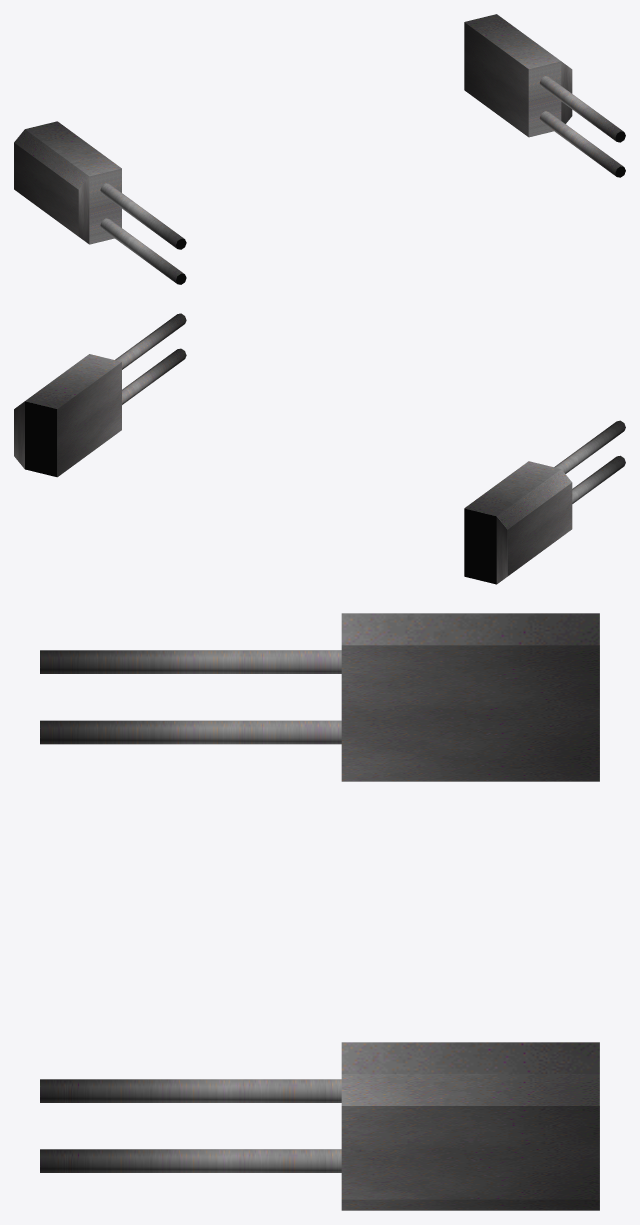
File: BlockadeCannonTurret.fbx
The picture shows the model from 3 angles, top to bottom: view 1: azimuth 30°, elevation 25°; view 2: azimuth 150°, elevation 25°; view 3: azimuth 270°, elevation 25°; orthographic projection. The views are drawn at different scales.
Visible parts, largest first — view 1: BlockadeCannonTurret; view 2: BlockadeCannonTurret; view 3: BlockadeCannonTurret.
Part boxes in pixels (x1,y1,x2,y2): BlockadeCannonTurret: (14,14,625,284); BlockadeCannonTurret: (14,313,625,584); BlockadeCannonTurret: (40,613,599,1210).
Bounding box in the file's own units: 182 × 24 × 89.31.
